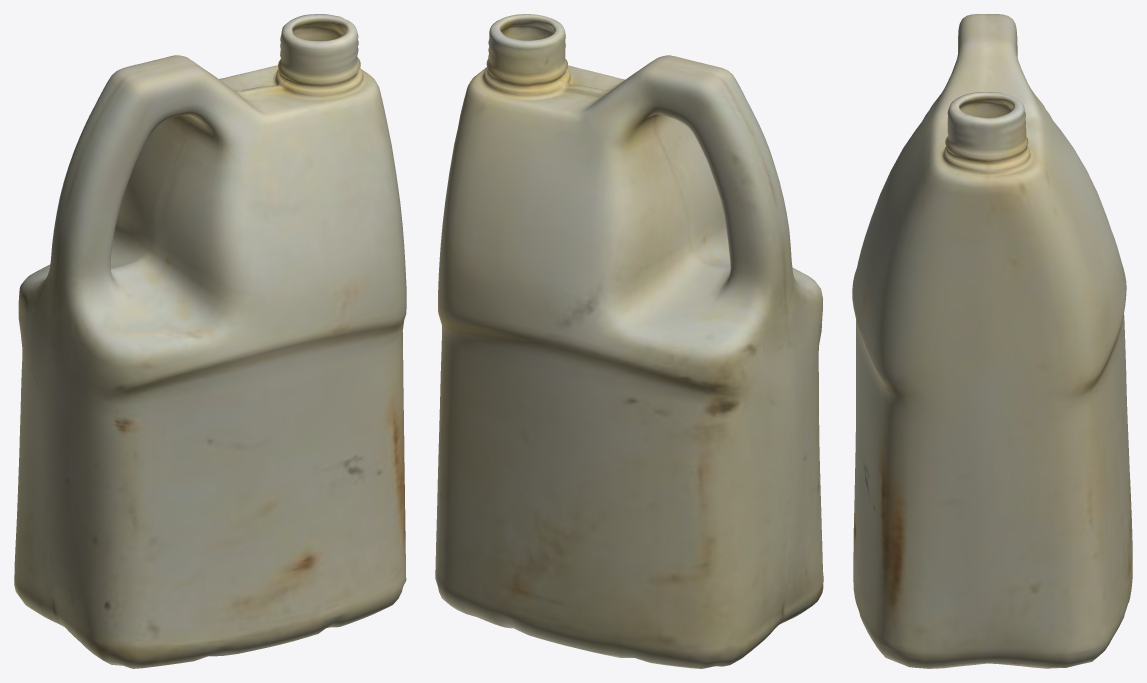
Rendered from plastic_bottle_gallon.glb.
3 views of the same model, side by side, from view 1: azimuth 30°, elevation 25°; view 2: azimuth 150°, elevation 25°; view 3: azimuth 270°, elevation 25° (orthographic).
Parts seen in each view (by area): view 1: plastic_bottle_gallon; view 2: plastic_bottle_gallon; view 3: plastic_bottle_gallon.
Boxes of the visible parts, x1,y1,x2,y2 form: plastic_bottle_gallon: [14, 14, 406, 668]; plastic_bottle_gallon: [435, 14, 823, 668]; plastic_bottle_gallon: [852, 14, 1132, 668].
Size of the model in its own units: 0.1663 by 0.2745 by 0.1264.
Materials: 1 (1 with a texture image).
